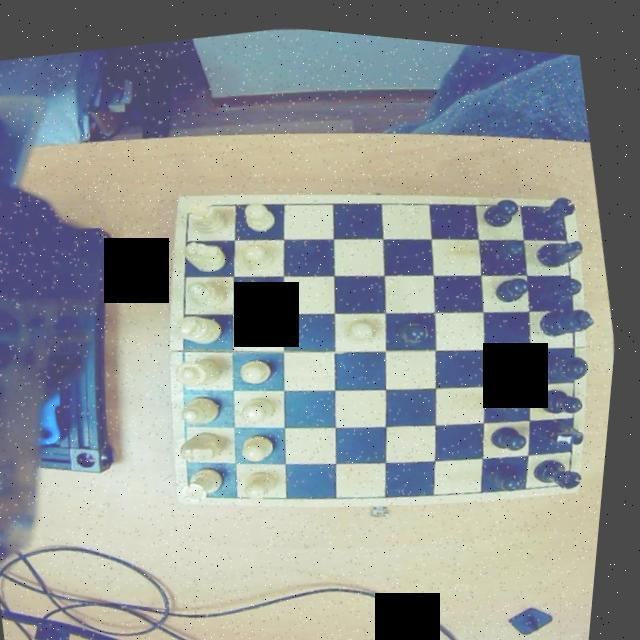chess-table-corners: (184, 472, 216, 502), (546, 183, 580, 210), (177, 190, 208, 219), (562, 456, 590, 482)
